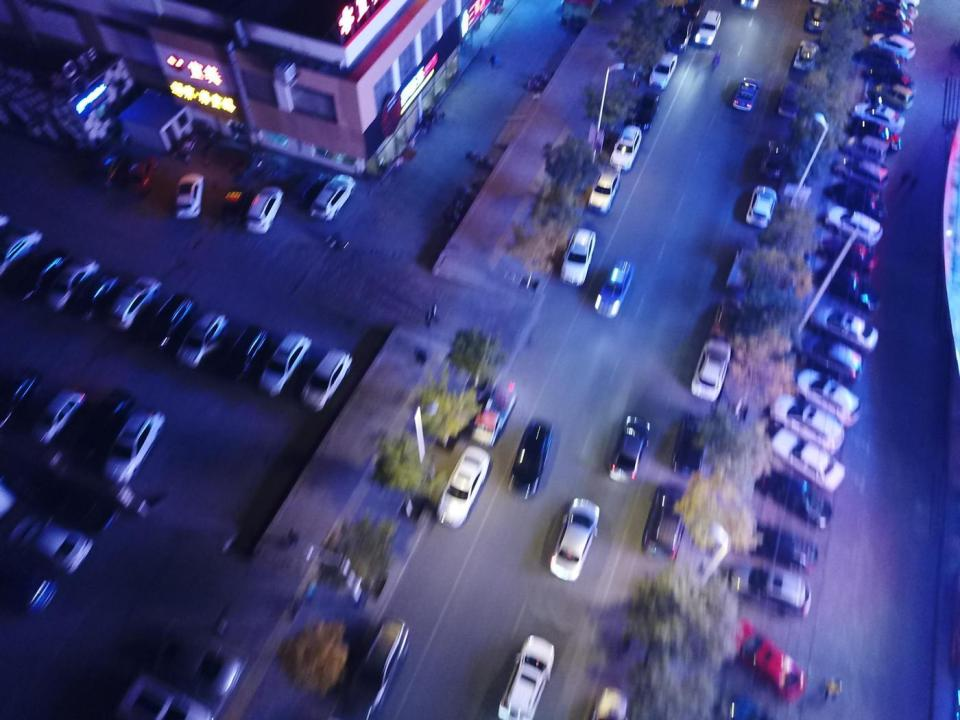car: (112, 596, 250, 698), (327, 614, 409, 720), (724, 620, 807, 700), (109, 670, 217, 720), (764, 424, 844, 491), (31, 476, 121, 534), (9, 514, 93, 575), (724, 560, 810, 619), (497, 634, 554, 720), (752, 466, 830, 528), (102, 410, 163, 487), (730, 520, 819, 570), (770, 393, 845, 452), (78, 390, 136, 466), (436, 446, 489, 528), (803, 255, 879, 312), (548, 498, 598, 582), (794, 369, 861, 430), (806, 304, 878, 358), (792, 332, 861, 385), (508, 418, 552, 497), (641, 481, 684, 558), (0, 561, 58, 618), (32, 386, 87, 446), (6, 248, 65, 302), (299, 348, 350, 410), (260, 332, 309, 395), (470, 379, 516, 445), (2, 364, 43, 436), (46, 257, 98, 312), (814, 234, 882, 276), (109, 278, 160, 332), (672, 410, 712, 478), (609, 413, 649, 480), (178, 312, 226, 366), (824, 205, 883, 248), (690, 337, 730, 400), (146, 294, 194, 346), (222, 324, 265, 380), (594, 260, 635, 317), (0, 226, 41, 282), (824, 179, 880, 219), (70, 273, 118, 319), (309, 174, 355, 218), (561, 228, 594, 286), (244, 185, 282, 233), (725, 248, 762, 296), (88, 146, 125, 188), (588, 168, 620, 213), (610, 124, 641, 170), (744, 185, 775, 227), (710, 300, 742, 338), (177, 172, 203, 218), (847, 117, 888, 146), (850, 101, 889, 130), (633, 91, 659, 132), (649, 51, 676, 89), (760, 140, 786, 178), (694, 10, 721, 45), (126, 156, 154, 188), (732, 77, 759, 110), (668, 19, 692, 52), (777, 82, 799, 118), (793, 40, 817, 72), (854, 47, 889, 67), (861, 6, 888, 28), (859, 82, 888, 102), (804, 6, 826, 30), (859, 66, 888, 82), (682, 0, 705, 18), (866, 31, 888, 47)
van: (835, 156, 887, 193), (837, 135, 888, 165)
